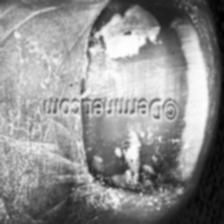Toxin: (107, 134, 198, 195), (96, 8, 162, 76), (183, 26, 197, 158)
